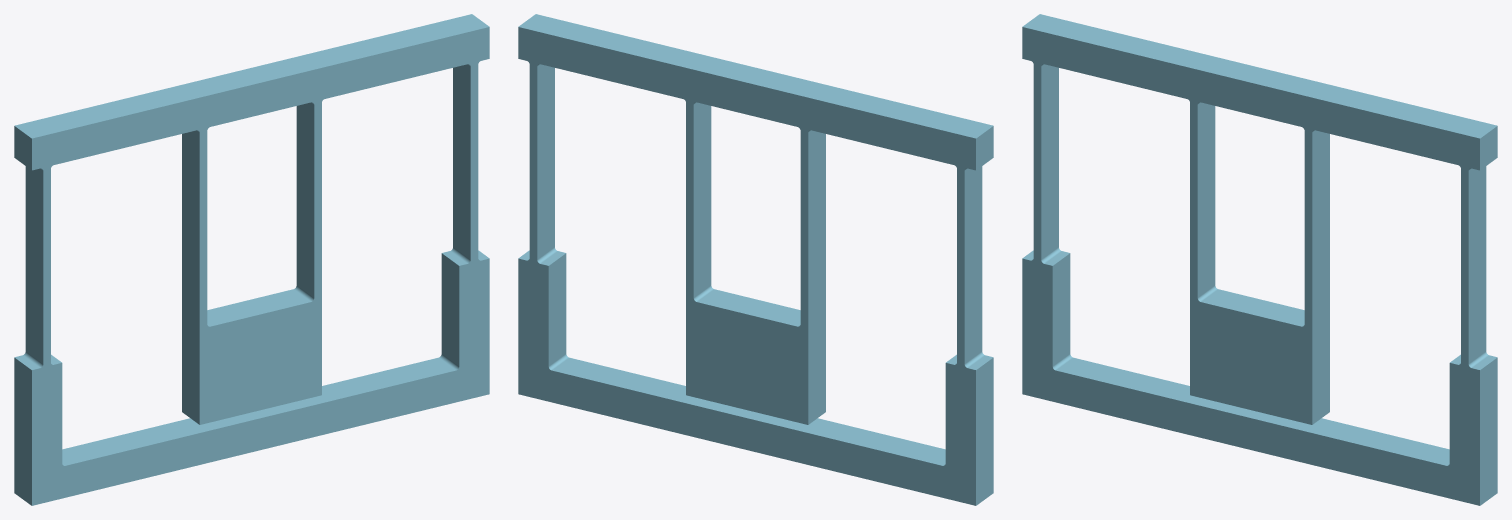
Rendered from flexure_stage_demo.glb.
3 renders of one model, left to right at view 1: azimuth 30°, elevation 25°; view 2: azimuth 150°, elevation 25°; view 3: azimuth 330°, elevation 25°, orthographic.
Parts seen in each view (by area): view 1: flexure_stage; view 2: flexure_stage; view 3: flexure_stage.
Part boxes in pixels (bbox=[...]): flexure_stage: bbox=[14, 14, 489, 505]; flexure_stage: bbox=[518, 14, 993, 505]; flexure_stage: bbox=[1022, 14, 1497, 505].
Size of the model in its own units: 60 by 46 by 4.
